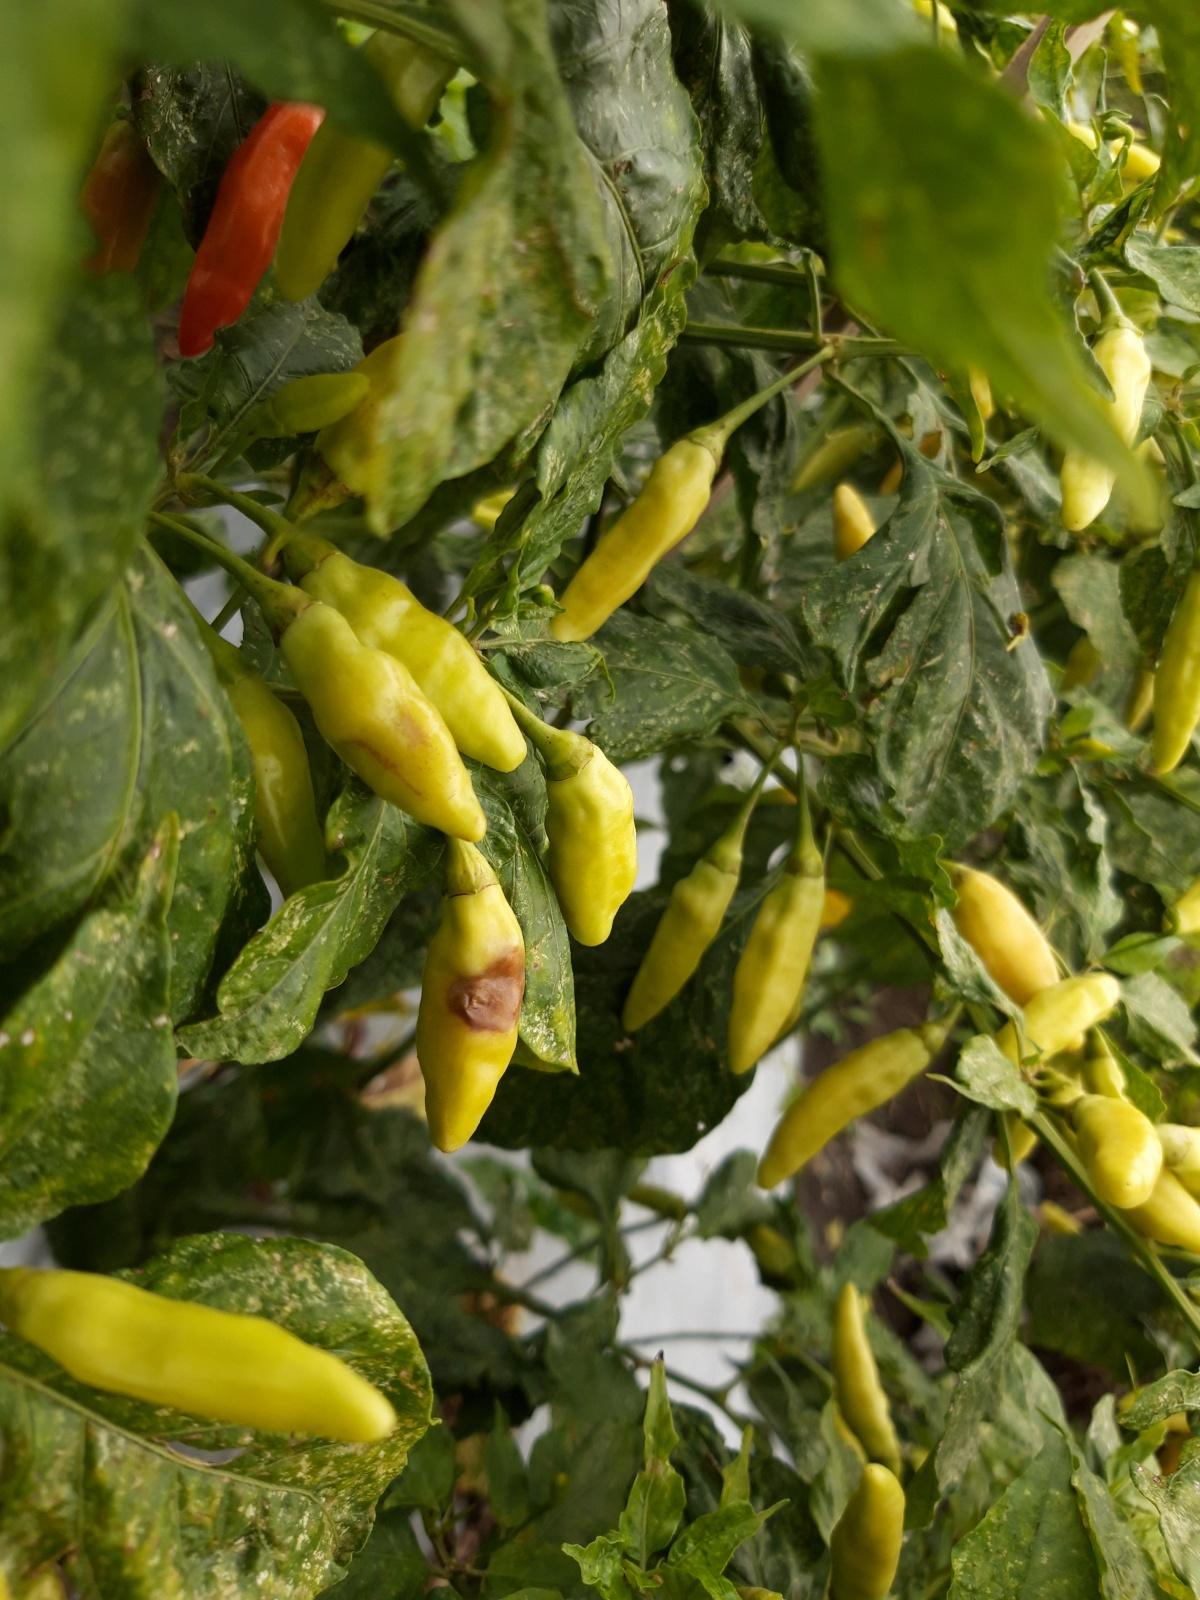cabai_normal: (0, 1266, 402, 1444), (284, 533, 529, 774), (263, 586, 488, 842), (176, 101, 326, 357), (547, 427, 721, 643), (756, 1020, 947, 1189), (620, 837, 740, 1034), (726, 845, 826, 1076), (543, 731, 638, 946), (1059, 314, 1150, 530), (943, 863, 1059, 1005), (832, 1280, 903, 1479), (1143, 557, 1200, 776), (1064, 1094, 1162, 1208), (829, 1461, 906, 1600)
lalat_buah: (416, 840, 523, 1155)
